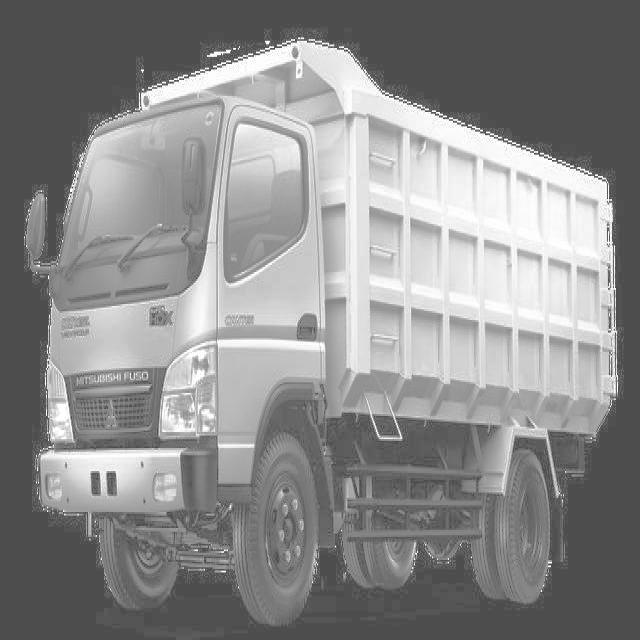Truck: (24, 34, 618, 628)
